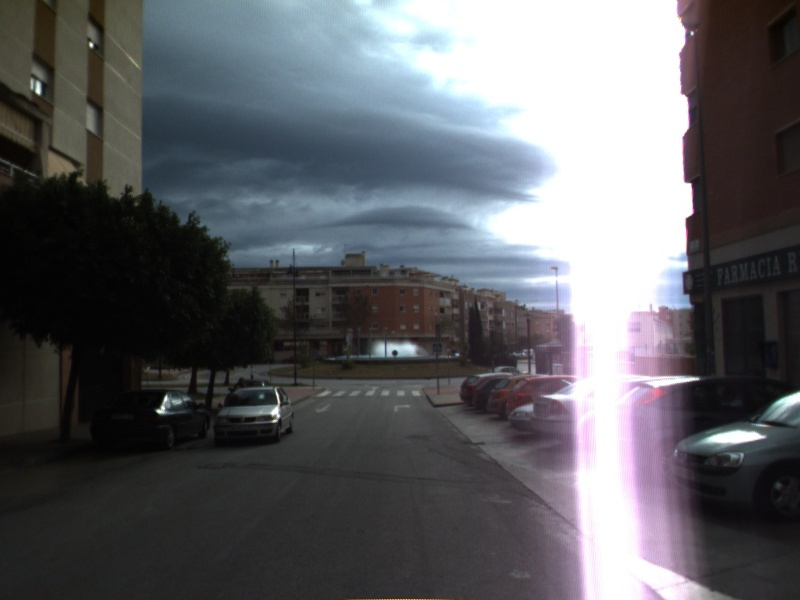RIGHT: (392, 401, 414, 414)
